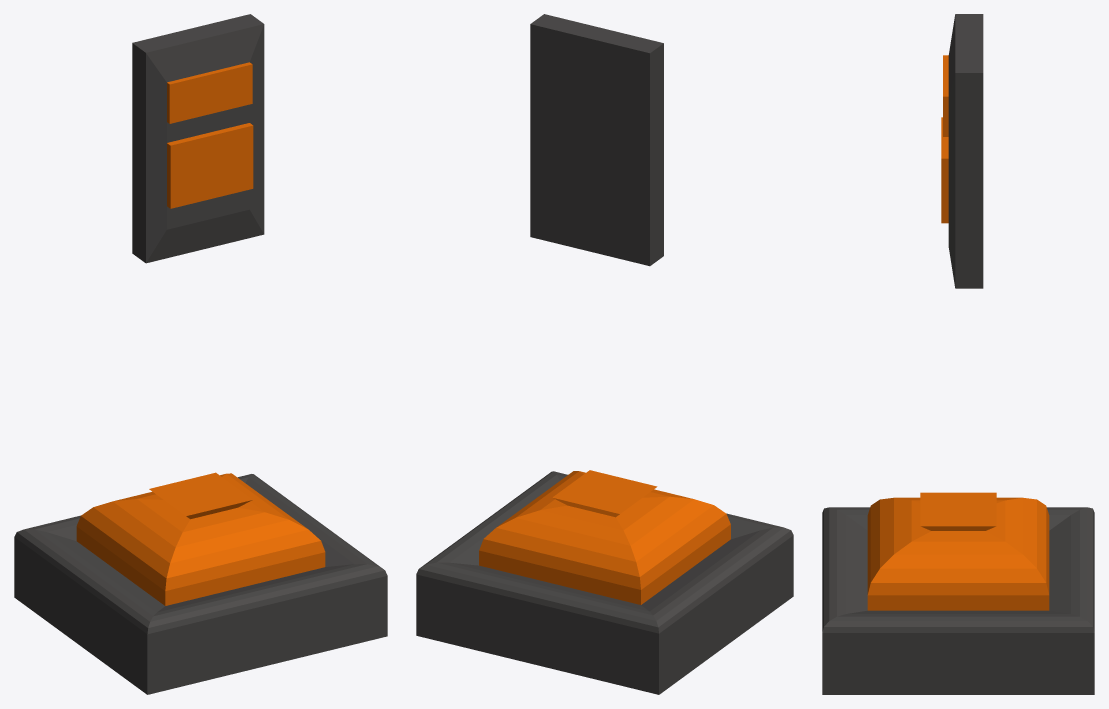
File: Pellet Tool.fbx
The picture shows the model from 3 angles, left to right: view 1: azimuth 30°, elevation 25°; view 2: azimuth 150°, elevation 25°; view 3: azimuth 270°, elevation 25°; orthographic projection. The views are drawn at different scales.
Visible parts, largest first — view 1: Cube; view 2: Cube; view 3: Cube.
Boxes of the visible parts, x1,y1,x2,y2 form: Cube: [14, 14, 387, 694]; Cube: [416, 14, 793, 694]; Cube: [822, 14, 1094, 694].
Size of the model in its own units: 150 by 346 by 144.
